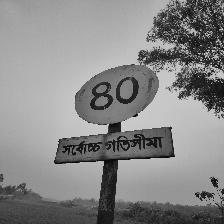Speed-limit: (54, 62, 173, 164)
